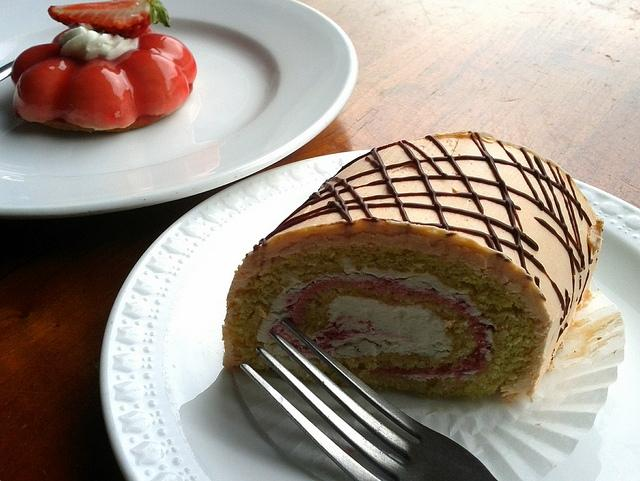strawberry: (48, 0, 170, 38)
